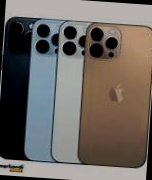iphone: (69, 27, 152, 178)
